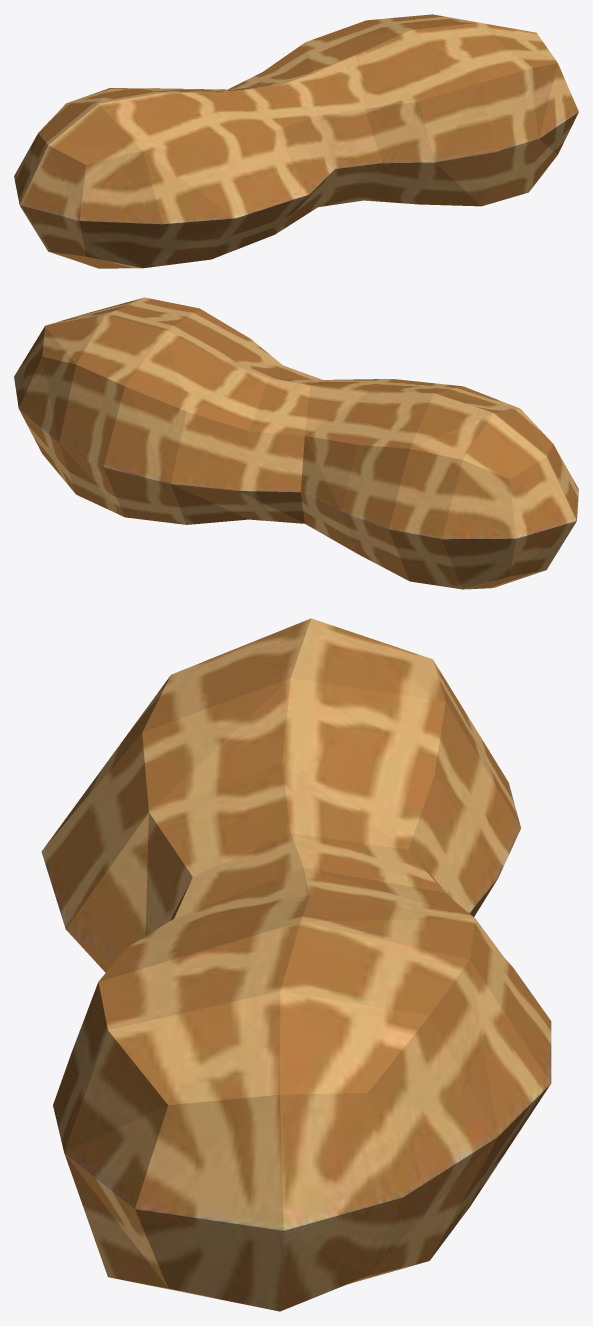
Rendered from peanut.glb.
3 renders of one model, top to bottom at view 1: azimuth 30°, elevation 25°; view 2: azimuth 150°, elevation 25°; view 3: azimuth 270°, elevation 25°, orthographic. The views are drawn at different scales.
Parts seen in each view (by area): view 1: Node; view 2: Node; view 3: Node.
Part boxes in pixels (left/top/right/bottom): Node: left=14, top=14, right=578, bottom=268; Node: left=14, top=297, right=578, bottom=589; Node: left=41, top=618, right=551, bottom=1311.
Size of the model in its own units: 3.41 by 0.9999 by 1.4.
1 material, 1 textured.
